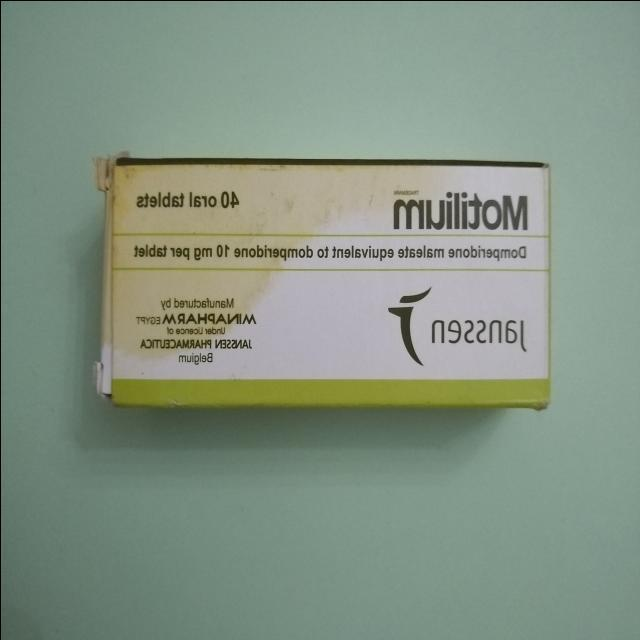Medicine Name: (385, 187, 535, 233)
